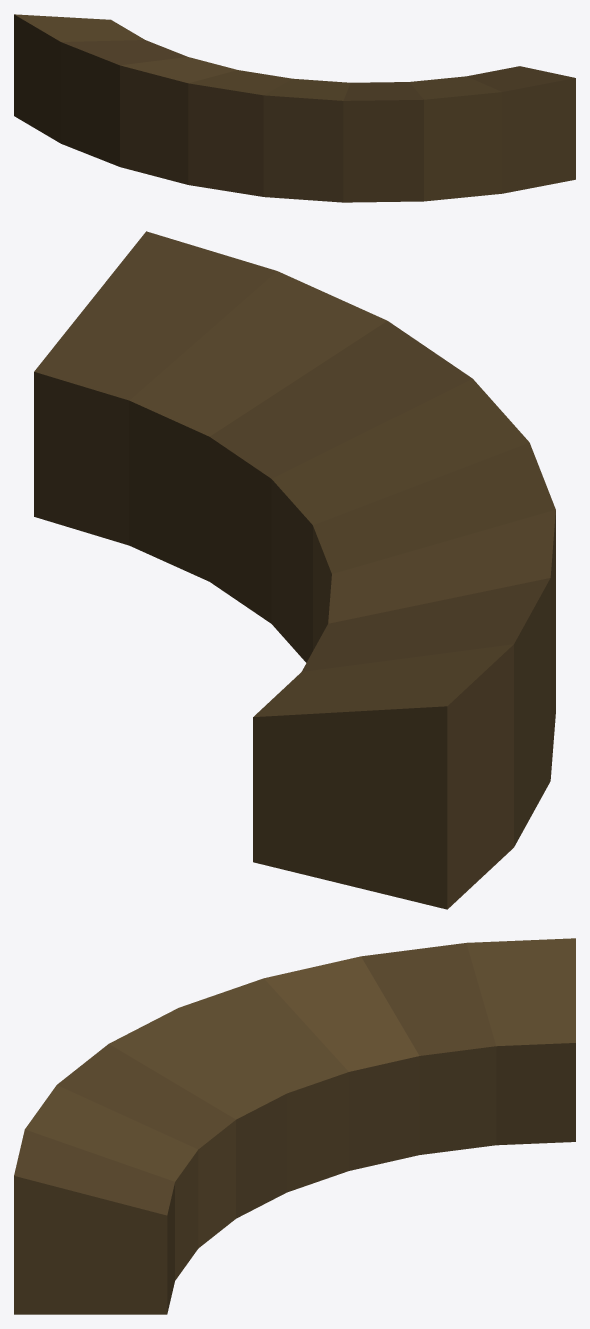
File: W14_Lake_Bank_Corner.fbx
3 renders of one model, top to bottom at view 1: azimuth 30°, elevation 25°; view 2: azimuth 150°, elevation 25°; view 3: azimuth 270°, elevation 25°, orthographic. The views are drawn at different scales.
Parts seen in each view (by area): view 1: W14_Lake_Bank_Corner; view 2: W14_Lake_Bank_Corner; view 3: W14_Lake_Bank_Corner.
Part boxes in pixels (x1,y1,x2,y2): W14_Lake_Bank_Corner: (14, 14, 575, 202); W14_Lake_Bank_Corner: (34, 231, 555, 909); W14_Lake_Bank_Corner: (14, 938, 575, 1314).
Bounding box in the file's own units: 2.75 × 0.75 × 2.75.
Materials: 1 (1 with a texture image).
